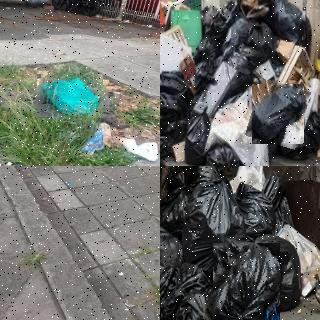Garbage: (179, 166, 245, 275), (207, 239, 285, 320), (249, 81, 308, 147), (253, 234, 302, 310), (35, 70, 105, 122), (235, 177, 277, 233), (267, 0, 313, 51), (223, 17, 275, 56), (160, 70, 191, 122), (172, 288, 218, 320), (184, 109, 209, 164), (160, 227, 178, 302), (203, 142, 240, 166)
